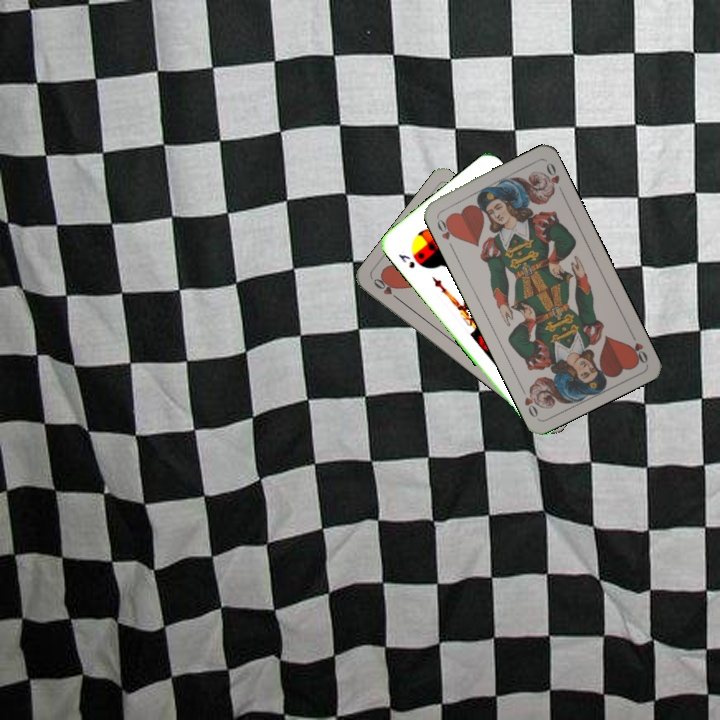HO: (432, 213, 459, 251), (369, 274, 403, 304), (626, 327, 650, 366)
SK: (394, 246, 418, 271)
